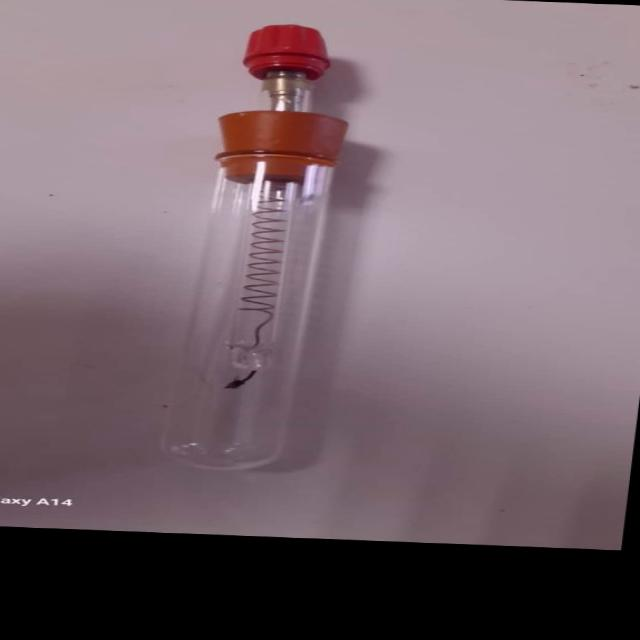Electrode: (123, 18, 381, 486)
